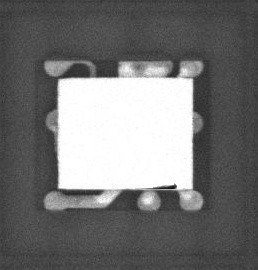DIE_BROKEN: (152, 180, 179, 190)
